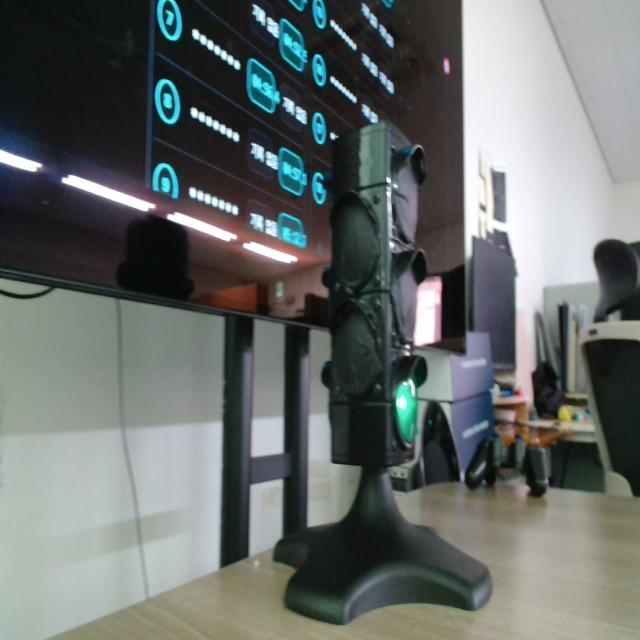green_light: (396, 379, 417, 445)
